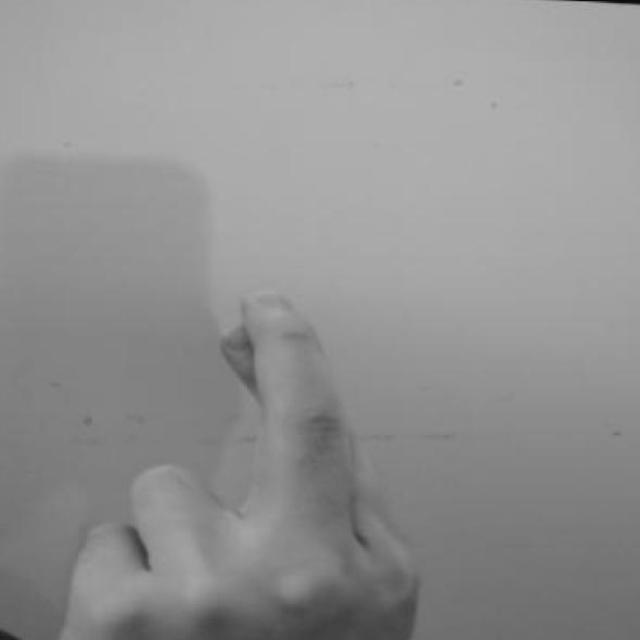R: (43, 275, 432, 640)
